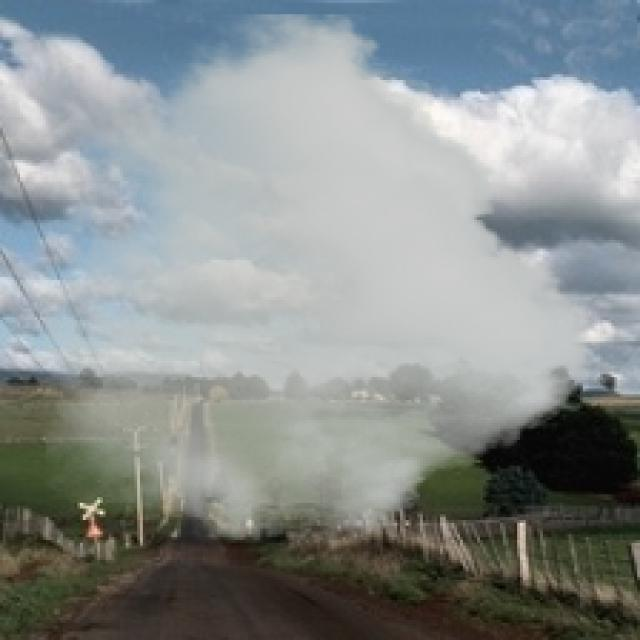Smoke: (46, 14, 588, 543)
